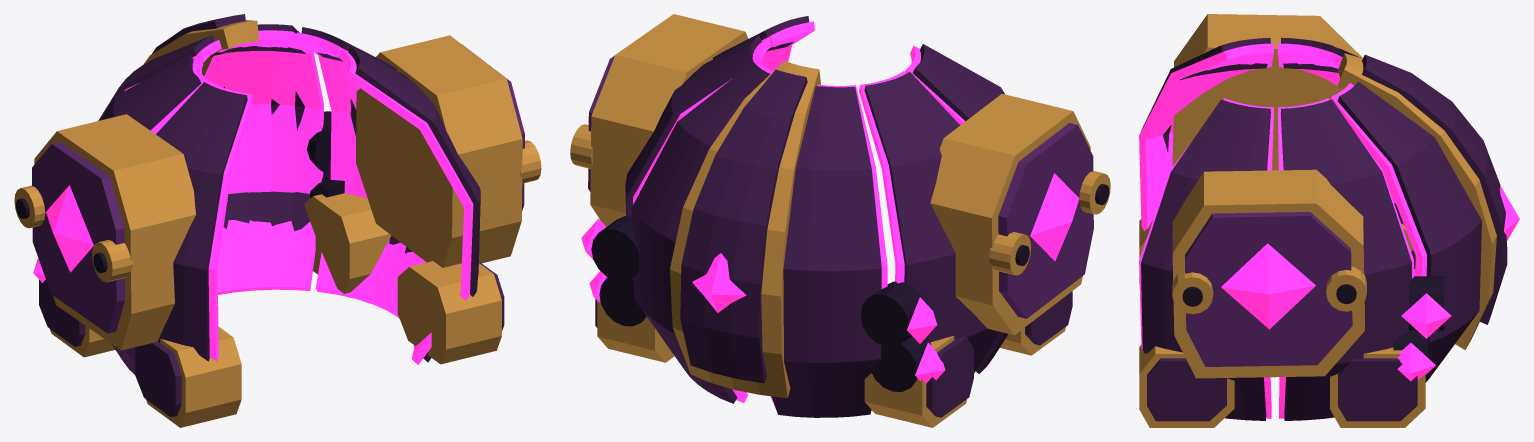
Rendered from finalboss-arcade-v2-accessories.fbx.
3 renders of one model, left to right at view 1: azimuth 30°, elevation 25°; view 2: azimuth 150°, elevation 25°; view 3: azimuth 270°, elevation 25°, orthographic. The views are drawn at different scales.
Parts seen in each view (by area): view 1: BossPauldronRim_1, BossShellBorder_1_2, BossPauldronRim_-1, BossShellPanel_-1_0, BossPauldronPlate_-1, BossHipRim_1_0, BossShellBorder_1_1, BossHipRim_1_1, BossHipRim_-1_0, BossShellPanel_1_0, BossShellPanel_-1_1, BossShellPanel_1_2 (+16 smaller); view 2: BossShellPanel_-1_2, BossBackInset, BossPauldronRim_-1, BossShellPanel_-1_1, BossPauldronRim_1, BossShellPanel_1_2, BossBackSpine, BossPauldronPlate_-1, BossShellPanel_1_1, BossShellPanel_-1_0, BossRearSocket_-1_1, BossHipRim_-1_1 (+20 smaller); view 3: BossPauldronPlate_1, BossShellPanel_1_1, BossShellPanel_1_2, BossPauldronRim_1, BossShellPanel_1_0, BossPauldronRim_-1, BossShellBorder_-1_0, BossBackInset, BossBackSpine, BossHipPlate_1_1, BossPauldronGem_1, BossHipPlate_1_0 (+15 smaller).
Part boxes in pixels (box(x1,y1,x2,y2)): BossPauldronRim_1: box(356, 35, 522, 267); BossShellBorder_1_2: box(204, 30, 323, 294); BossPauldronRim_-1: box(34, 114, 195, 350); BossShellPanel_-1_0: box(126, 82, 247, 364); BossPauldronPlate_-1: box(32, 142, 124, 333); BossHipRim_1_0: box(397, 261, 501, 364); BossShellBorder_1_1: box(296, 32, 424, 316); BossHipRim_1_1: box(304, 193, 391, 293); BossHipRim_-1_0: box(146, 326, 241, 427); BossShellPanel_1_0: box(348, 46, 480, 362); BossShellPanel_-1_1: box(100, 54, 201, 374); BossShellPanel_1_2: box(221, 24, 310, 231); BossShellPanel_-1_2: box(771, 86, 881, 417); BossBackInset: box(680, 69, 807, 383); BossPauldronRim_-1: box(930, 93, 1090, 335); BossShellPanel_-1_1: box(864, 72, 999, 373); BossPauldronRim_1: box(590, 14, 748, 226); BossShellPanel_1_2: box(631, 62, 770, 403); BossBackSpine: box(670, 61, 820, 398); BossPauldronPlate_-1: box(998, 123, 1093, 318); BossShellPanel_1_1: box(625, 35, 761, 217); BossShellPanel_-1_0: box(913, 44, 1007, 373); BossRearSocket_-1_1: box(861, 281, 923, 346); BossHipRim_-1_1: box(864, 336, 966, 427); BossPauldronPlate_1: box(1185, 212, 1352, 366); BossShellPanel_1_1: box(1280, 99, 1411, 420); BossShellPanel_1_2: box(1337, 81, 1481, 382); BossPauldronRim_1: box(1172, 169, 1364, 378); BossShellPanel_1_0: box(1141, 99, 1270, 420); BossPauldronRim_-1: box(1172, 14, 1362, 170); BossShellBorder_-1_0: box(1139, 43, 1273, 231); BossBackInset: box(1362, 54, 1507, 324); BossBackSpine: box(1337, 53, 1496, 349); BossHipPlate_1_1: box(1338, 358, 1417, 421); BossPauldronGem_1: box(1221, 243, 1315, 329); BossHipPlate_1_0: box(1147, 358, 1226, 421).
Bounding box in the file's own units: 1590 × 1025 × 1174.
